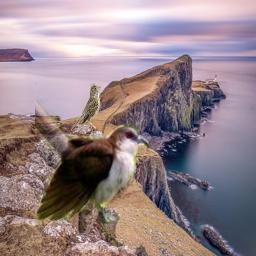Cuckoo: (35, 59, 150, 228)
Sparrow: (69, 83, 102, 134)
